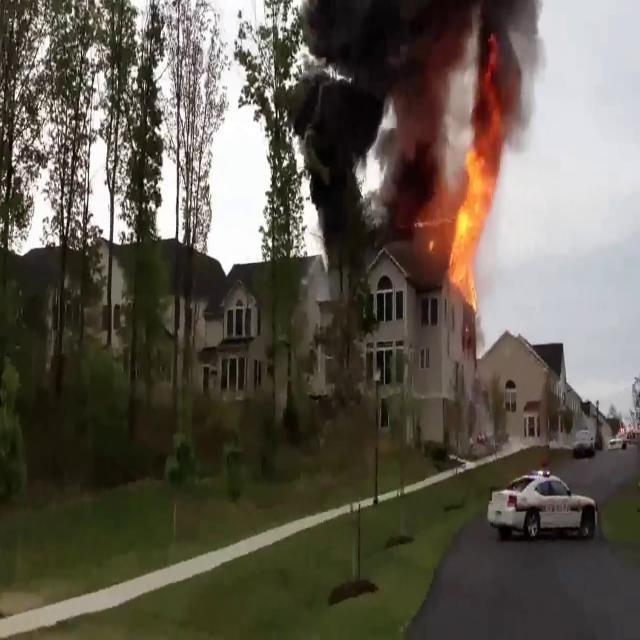Fire: (446, 145, 496, 319)
Smoke: (296, 0, 550, 244)
